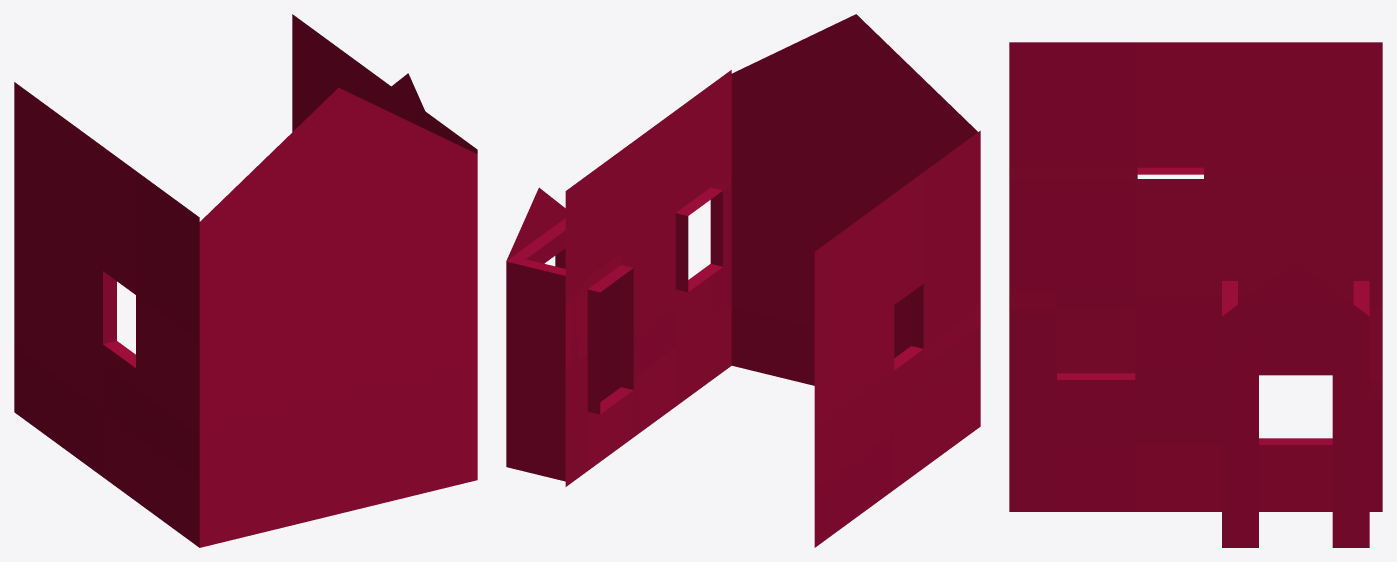
The model's file is SM_Bld_102_Masonry.glb.
3 views of the same model, side by side, from view 1: azimuth 30°, elevation 25°; view 2: azimuth 150°, elevation 25°; view 3: azimuth 270°, elevation 25° (orthographic). The views are drawn at different scales.
Parts seen in each view (by area): view 1: SM_Bld_102_Masonry; view 2: SM_Bld_102_Masonry; view 3: SM_Bld_102_Masonry.
Boxes of the visible parts, x1,y1,x2,y2 form: SM_Bld_102_Masonry: (14,14,477,547); SM_Bld_102_Masonry: (506,14,980,547); SM_Bld_102_Masonry: (1009,42,1382,547).
Bounding box in the file's own units: 5.52 × 6.41 × 5.05.
